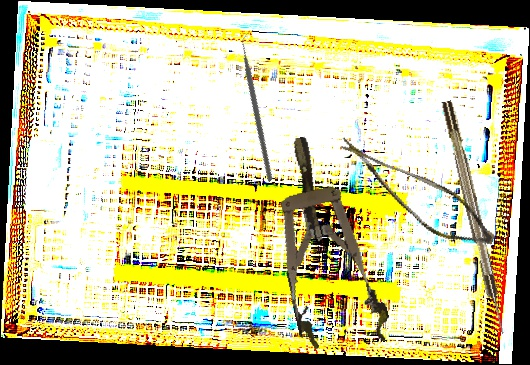Chopper: (184, 29, 336, 183)
Hook Surgical: (441, 99, 508, 336)
Micro Scissor: (321, 136, 509, 256)
Speculum: (256, 127, 394, 358)
